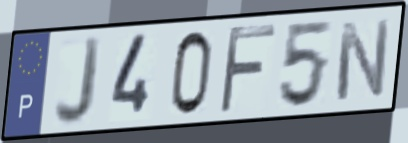0: (169, 28, 215, 118)
4: (108, 30, 156, 124)
5: (277, 17, 337, 110)
F: (216, 22, 278, 117)
J: (51, 33, 105, 129)
N: (333, 17, 393, 104)
